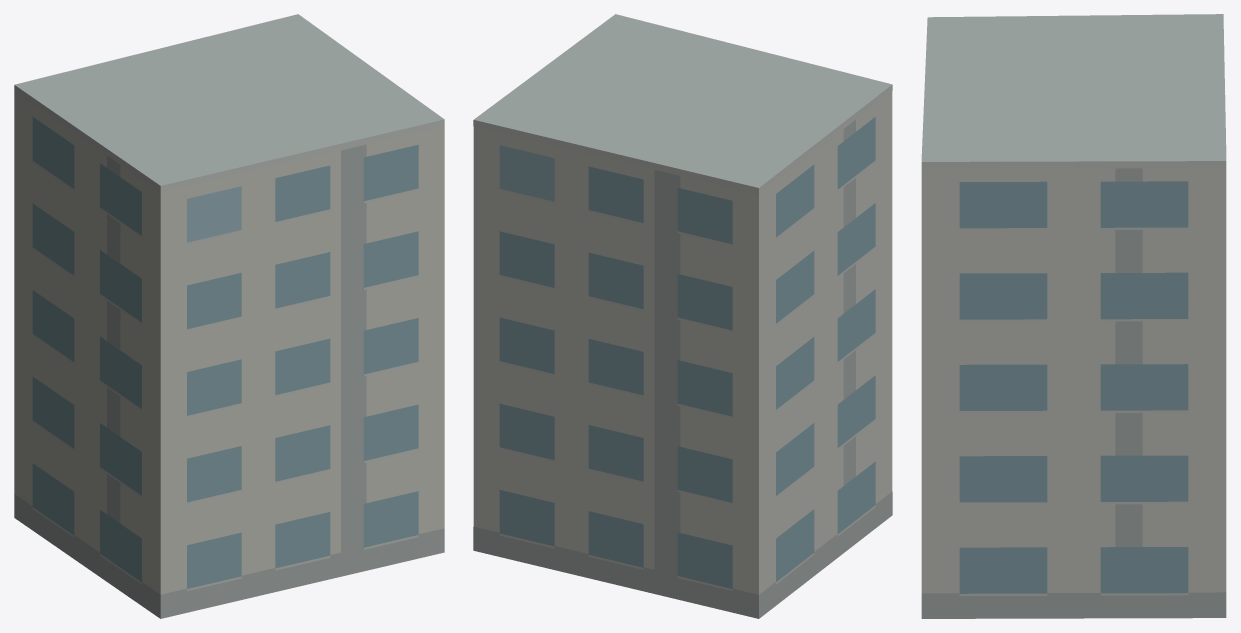
Rendered from survey-upis-32821277.glb.
3 views of the same model, side by side, from view 1: azimuth 30°, elevation 25°; view 2: azimuth 150°, elevation 25°; view 3: azimuth 270°, elevation 25° (orthographic). The views are drawn at different scales.
Parts seen in each view (by area): view 1: survey-upis-32821277.tmp; view 2: survey-upis-32821277.tmp; view 3: survey-upis-32821277.tmp.
Boxes of the visible parts, left/top/right/bottom form: survey-upis-32821277.tmp: left=14, top=14, right=444, bottom=618; survey-upis-32821277.tmp: left=473, top=14, right=892, bottom=618; survey-upis-32821277.tmp: left=921, top=14, right=1226, bottom=618.
Size of the model in its own units: 10.83 by 15.58 by 9.44.
